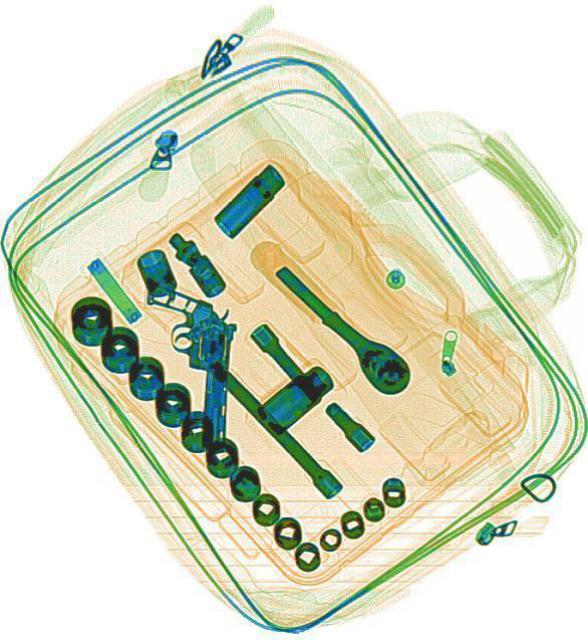Gun: (137, 281, 234, 444)
